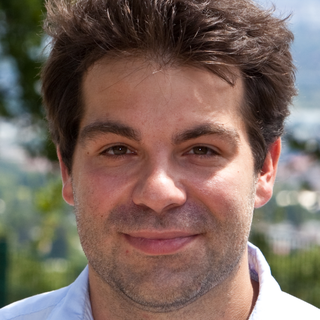eye: (178, 140, 227, 164), (94, 140, 142, 163)
